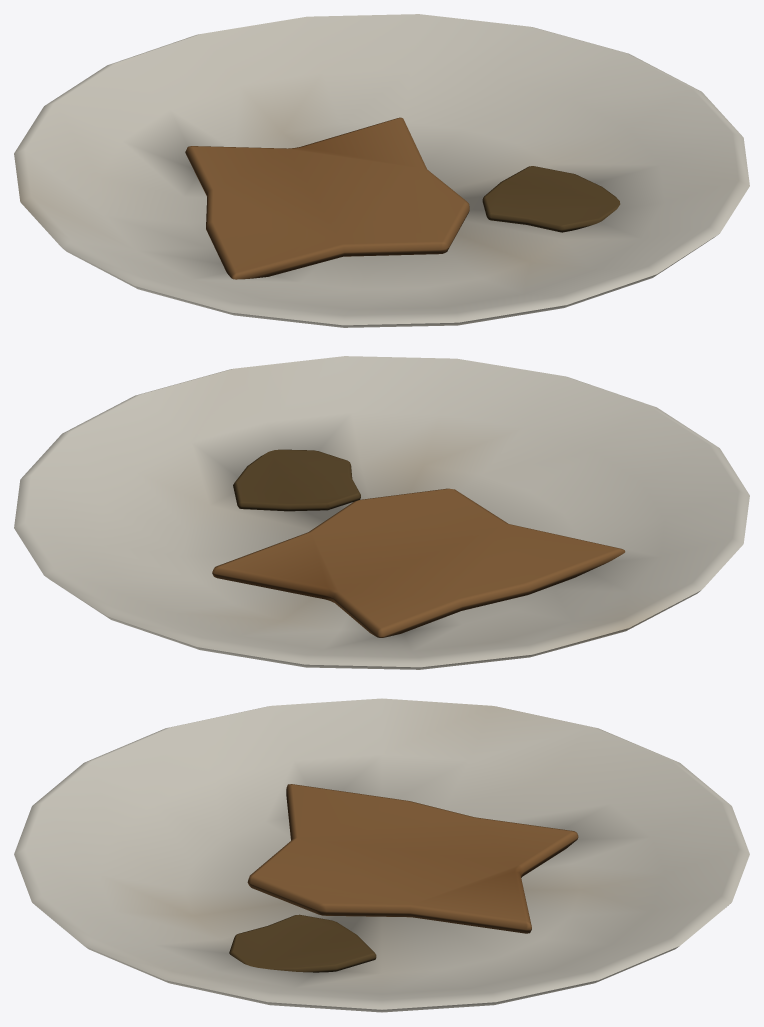
Rendered from kitchen_plate.glb.
The picture shows the model from 3 angles, top to bottom: view 1: azimuth 30°, elevation 25°; view 2: azimuth 150°, elevation 25°; view 3: azimuth 270°, elevation 25°; orthographic projection.
Parts seen in each view (by area): view 1: kitchen_plate; view 2: kitchen_plate; view 3: kitchen_plate.
Part boxes in pixels (box(x1,y1,x2,y2)): kitchen_plate: box(14, 14, 749, 327); kitchen_plate: box(14, 356, 749, 669); kitchen_plate: box(14, 698, 749, 1012).
Size of the model in its own units: 0.2598 by 0.0259 by 0.2598.
